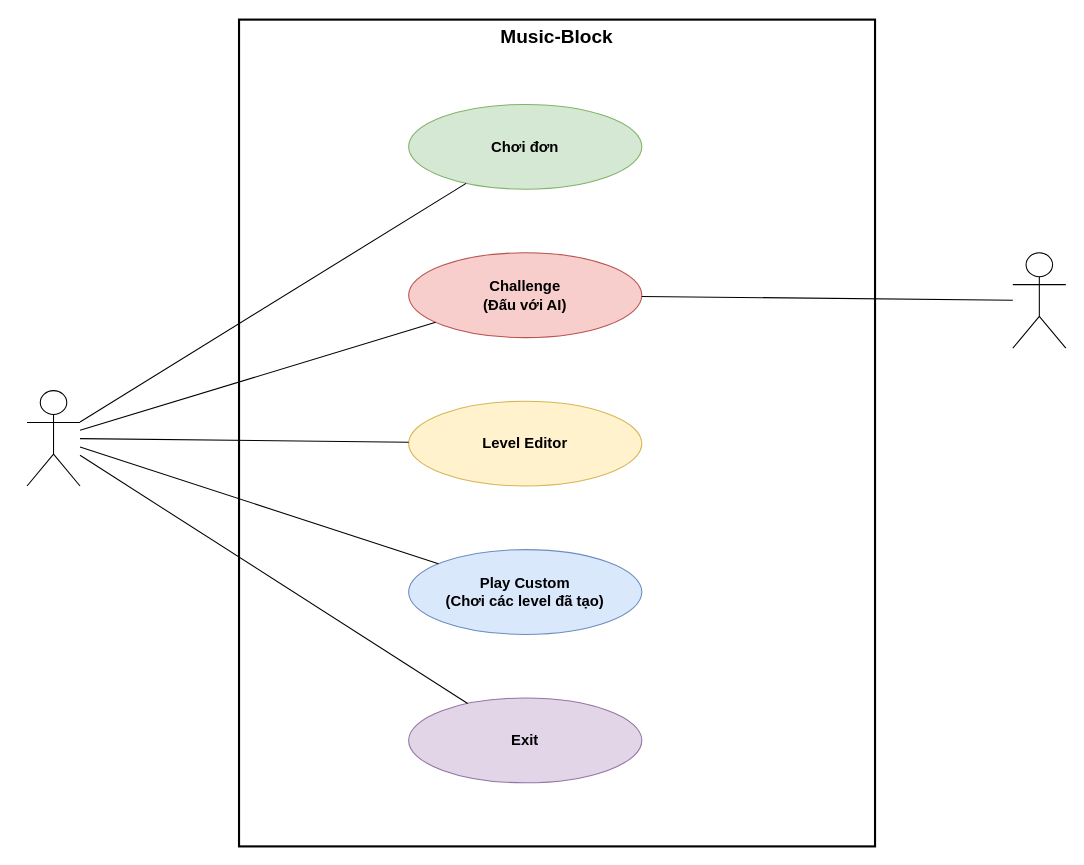
Image size: 1084x865. Some labels were removed from this diagram. Each missing label, with the centre of its shape:
"Bot AI" goes at (x=1039, y=300).
"Người chơi" goes at (x=53, y=438).
